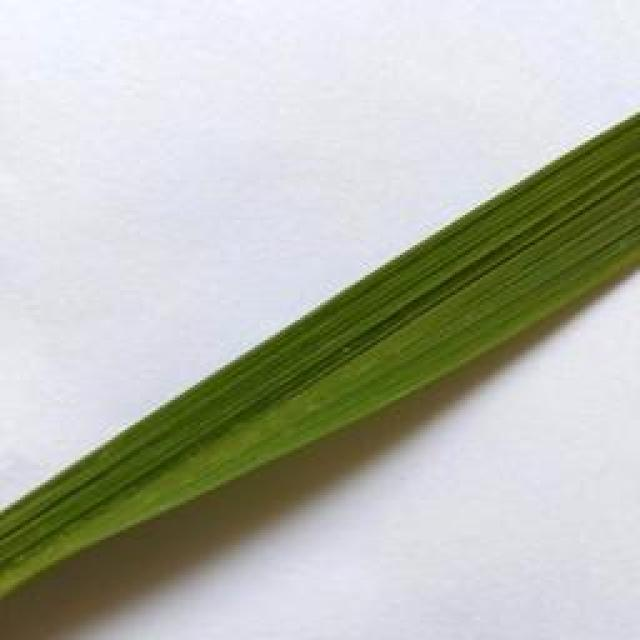Healthy-Plant: (0, 110, 640, 594)
